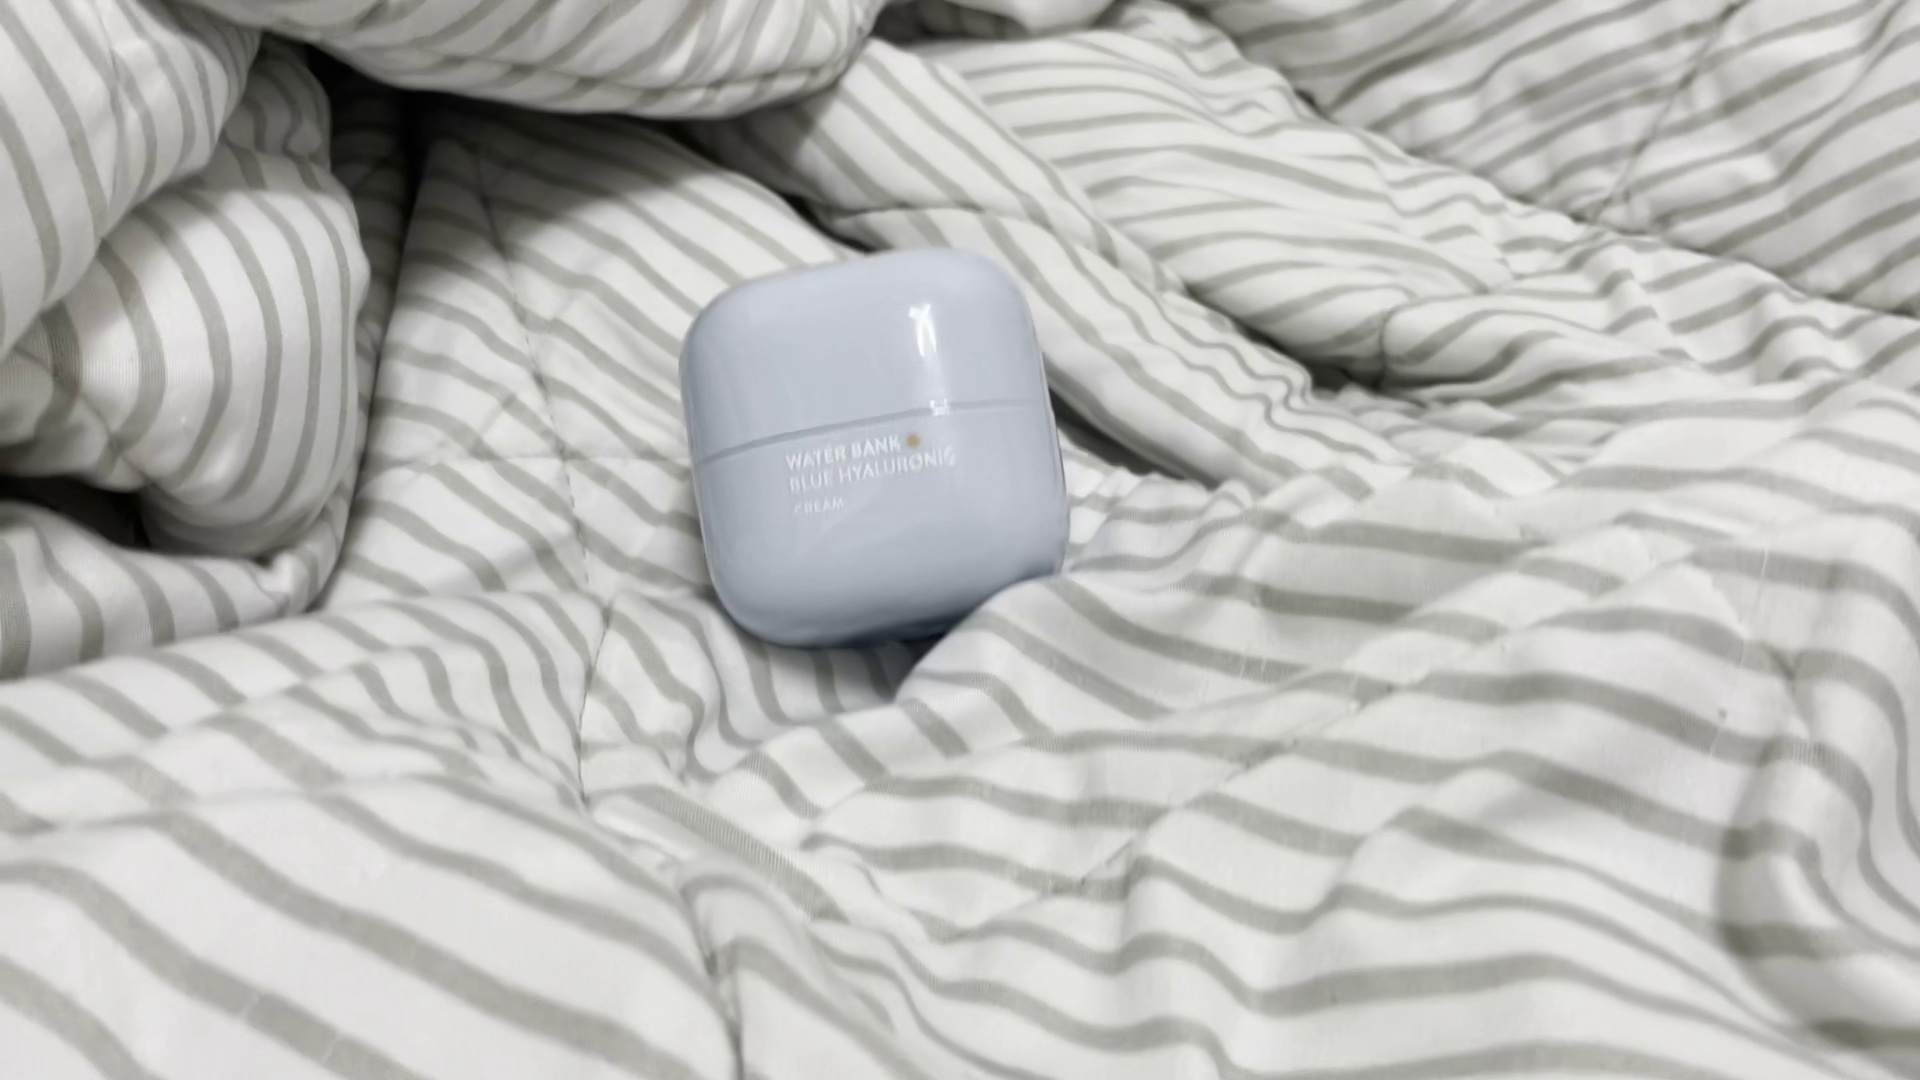cream: (684, 248, 1079, 640)
